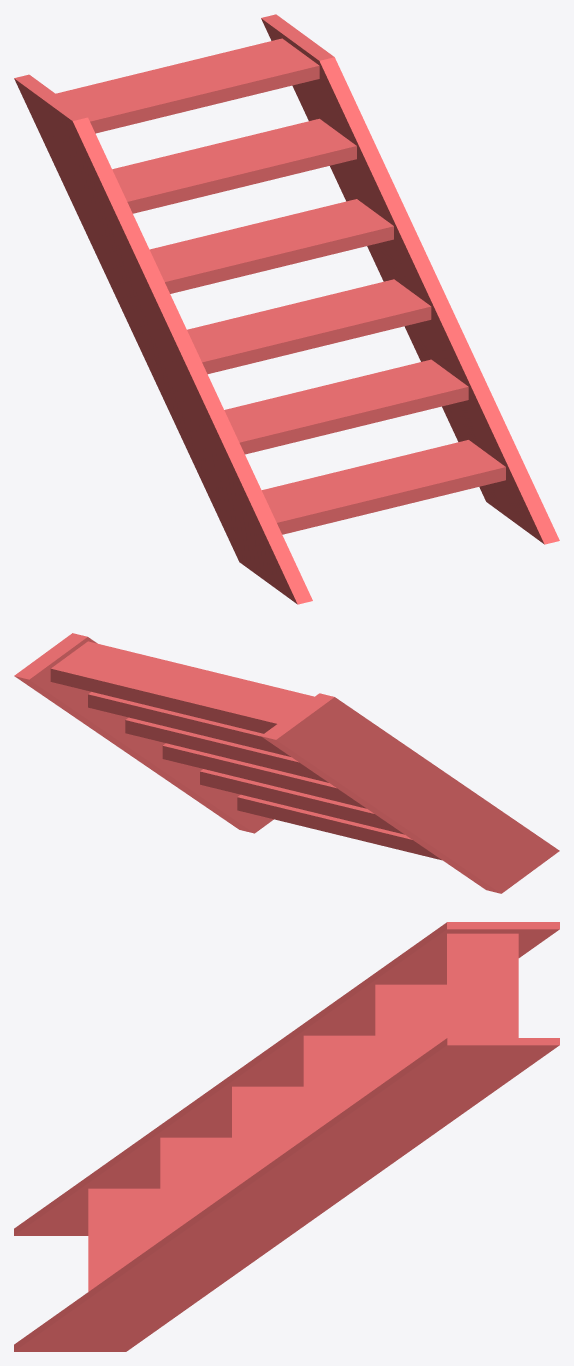
Rendered from Stairs_093.glb.
3 renders of one model, top to bottom at view 1: azimuth 30°, elevation 25°; view 2: azimuth 150°, elevation 25°; view 3: azimuth 270°, elevation 25°, orthographic. The views are drawn at different scales.
Visible parts, largest first — view 1: Stairs_093; view 2: Stairs_093; view 3: Stairs_093.
Part boxes in pixels (x1,y1,x2,y2): Stairs_093: (14, 14, 559, 604); Stairs_093: (14, 633, 559, 893); Stairs_093: (14, 922, 559, 1351).
Bounding box in the file's own units: 1.72 × 2 × 3.23.
Materials: 1 (1 with a texture image).
